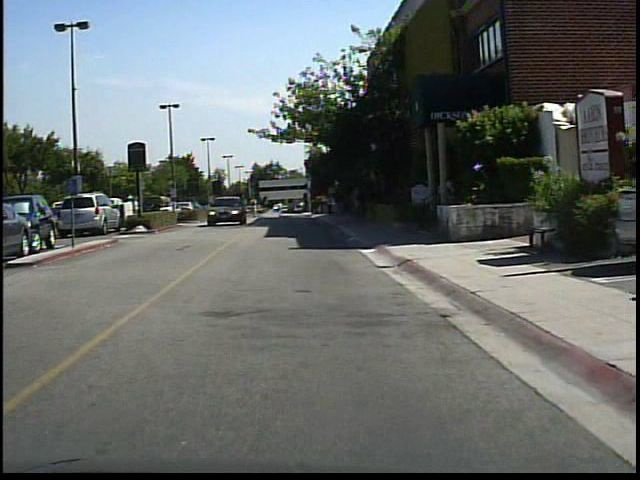person: (332, 181, 351, 218), (159, 190, 177, 228), (130, 194, 145, 228), (248, 193, 263, 224), (125, 191, 136, 219)
